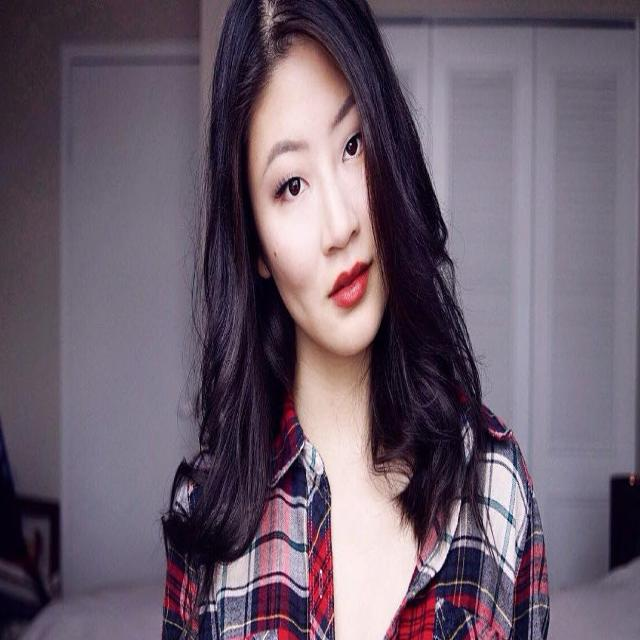mobile_phonerotation: (158, 1, 550, 637)
